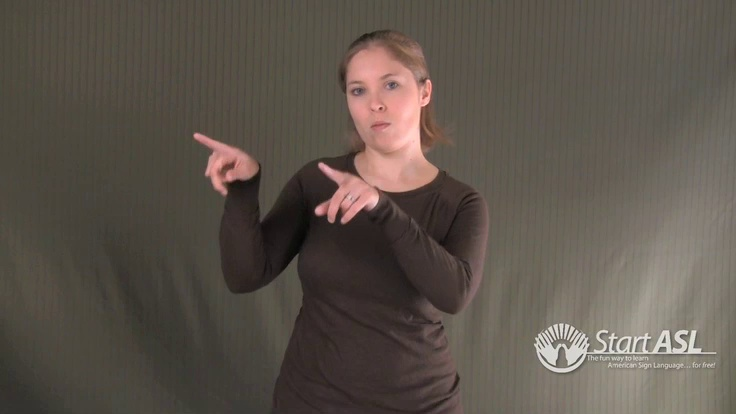go: (173, 123, 395, 266)
